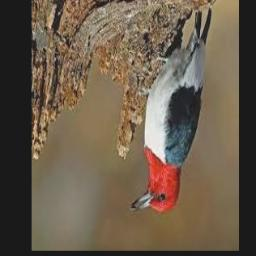Woodpecker: (131, 7, 212, 213)
